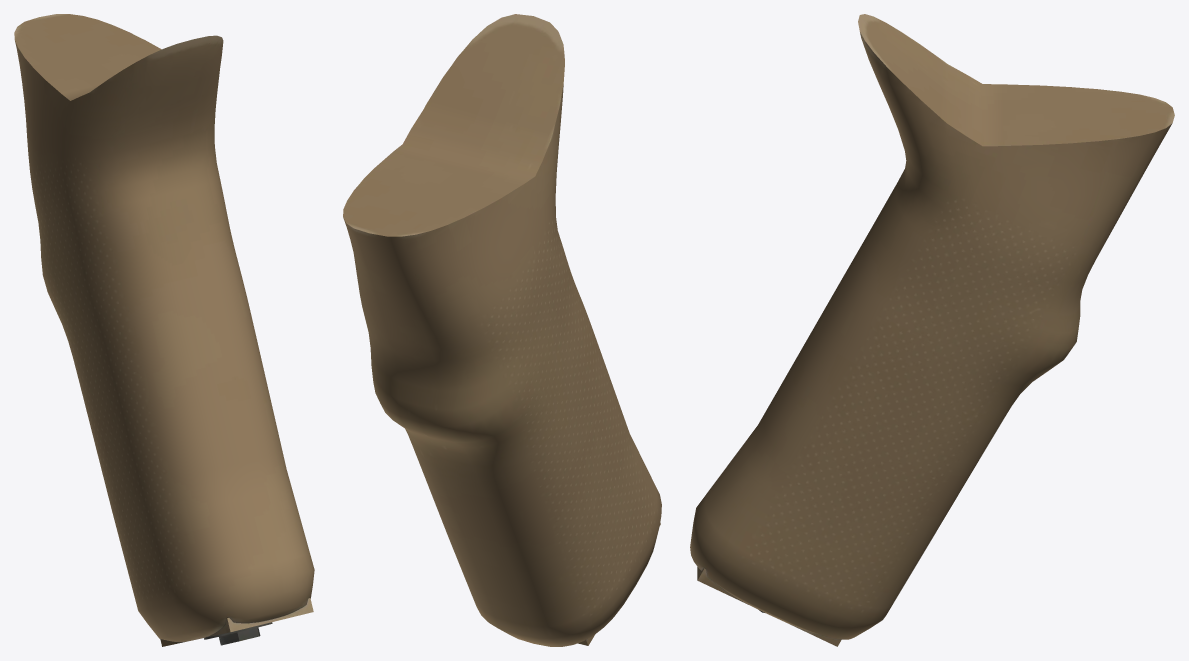
Rendered from punho_ar_tan.glb.
3 views of the same model, side by side, from view 1: azimuth 30°, elevation 25°; view 2: azimuth 150°, elevation 25°; view 3: azimuth 270°, elevation 25° (orthographic). The views are drawn at different scales.
Visible parts, largest first — view 1: punho_ar_tan_punho; view 2: punho_ar_tan_punho; view 3: punho_ar_tan_punho.
Part boxes in pixels (left/top/right/bottom): punho_ar_tan_punho: left=14, top=14, right=314, bottom=646; punho_ar_tan_punho: left=343, top=14, right=661, bottom=646; punho_ar_tan_punho: left=690, top=14, right=1174, bottom=646.
Bounding box in the file's own units: 0.0286 × 0.1141 × 0.0828.
1 material, 1 textured.
